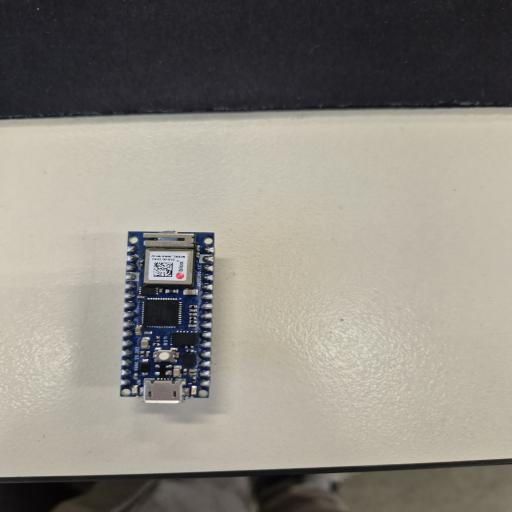arduino-nano-iot-33: (124, 229, 214, 401)
